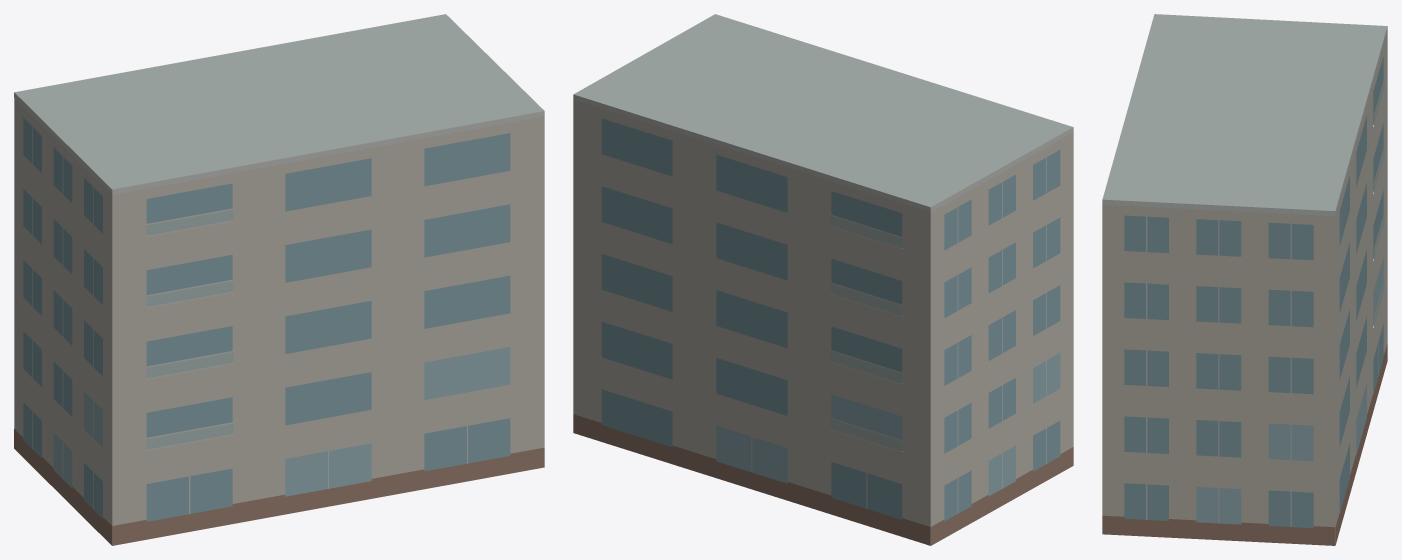
Rendered from survey-upis-32669115.glb.
The picture shows the model from 3 angles, left to right: view 1: azimuth 30°, elevation 25°; view 2: azimuth 150°, elevation 25°; view 3: azimuth 270°, elevation 25°; orthographic projection. The views are drawn at different scales.
Visible parts, largest first — view 1: survey-upis-32669115.tmp; view 2: survey-upis-32669115.tmp; view 3: survey-upis-32669115.tmp.
Boxes of the visible parts, bbox=[...] form: survey-upis-32669115.tmp: bbox=[14, 14, 544, 545]; survey-upis-32669115.tmp: bbox=[573, 14, 1073, 545]; survey-upis-32669115.tmp: bbox=[1102, 14, 1387, 545].
Bounding box in the file's own units: 20.1 × 15.9 × 12.29.
